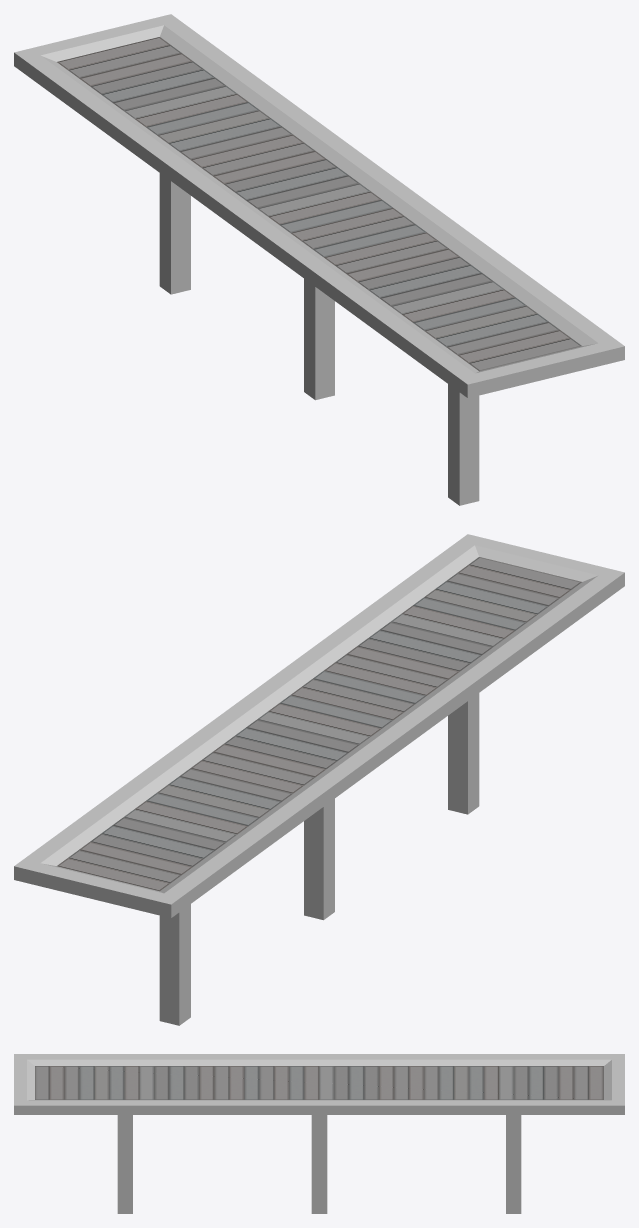
The model's file is Marina_02.fbx.
3 renders of one model, top to bottom at view 1: azimuth 30°, elevation 25°; view 2: azimuth 150°, elevation 25°; view 3: azimuth 270°, elevation 25°, orthographic. The views are drawn at different scales.
Visible parts, largest first — view 1: Marina_02; view 2: Marina_02; view 3: Marina_02.
Part boxes in pixels (left/top/right/bottom): Marina_02: left=14, top=14, right=624, bottom=505; Marina_02: left=14, top=534, right=624, bottom=1025; Marina_02: left=14, top=1054, right=624, bottom=1213.
Bounding box in the file's own units: 600 × 3000 × 709.
